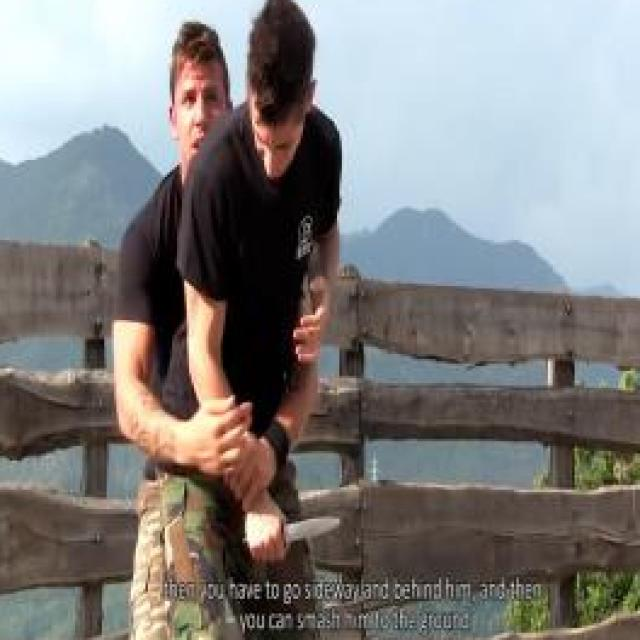knife: (240, 492, 345, 570)
